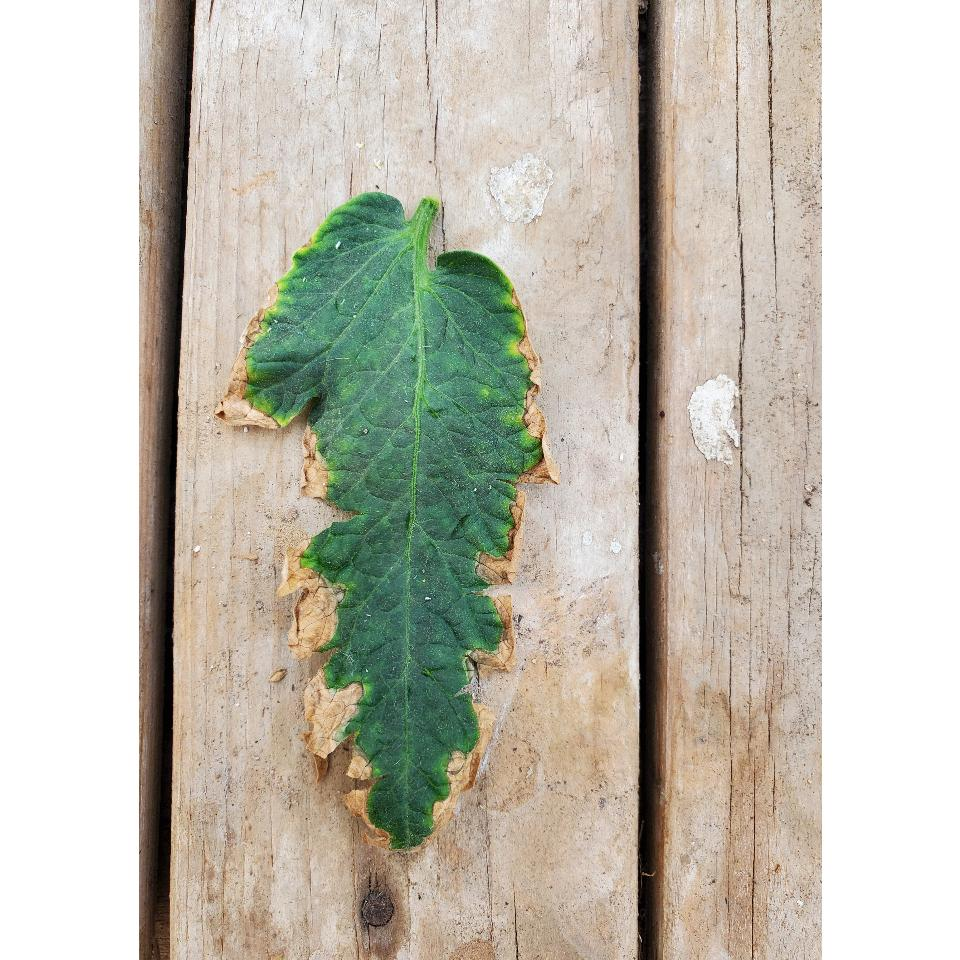tomato_bacterial_blight: (215, 180, 565, 858)
